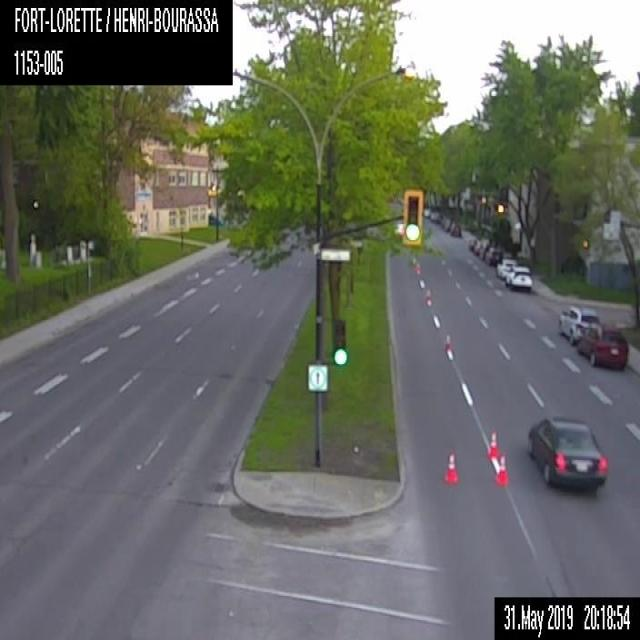construction: (443, 445, 458, 483), (495, 456, 508, 484), (487, 429, 497, 457), (444, 335, 451, 356), (413, 258, 421, 274), (426, 287, 432, 301)
vehicle: (528, 413, 606, 492), (578, 321, 629, 372), (556, 303, 597, 344), (504, 264, 532, 289), (496, 256, 516, 278), (484, 247, 502, 265), (479, 239, 492, 258), (442, 218, 453, 229), (450, 223, 460, 235), (468, 238, 478, 250), (473, 241, 481, 253)
